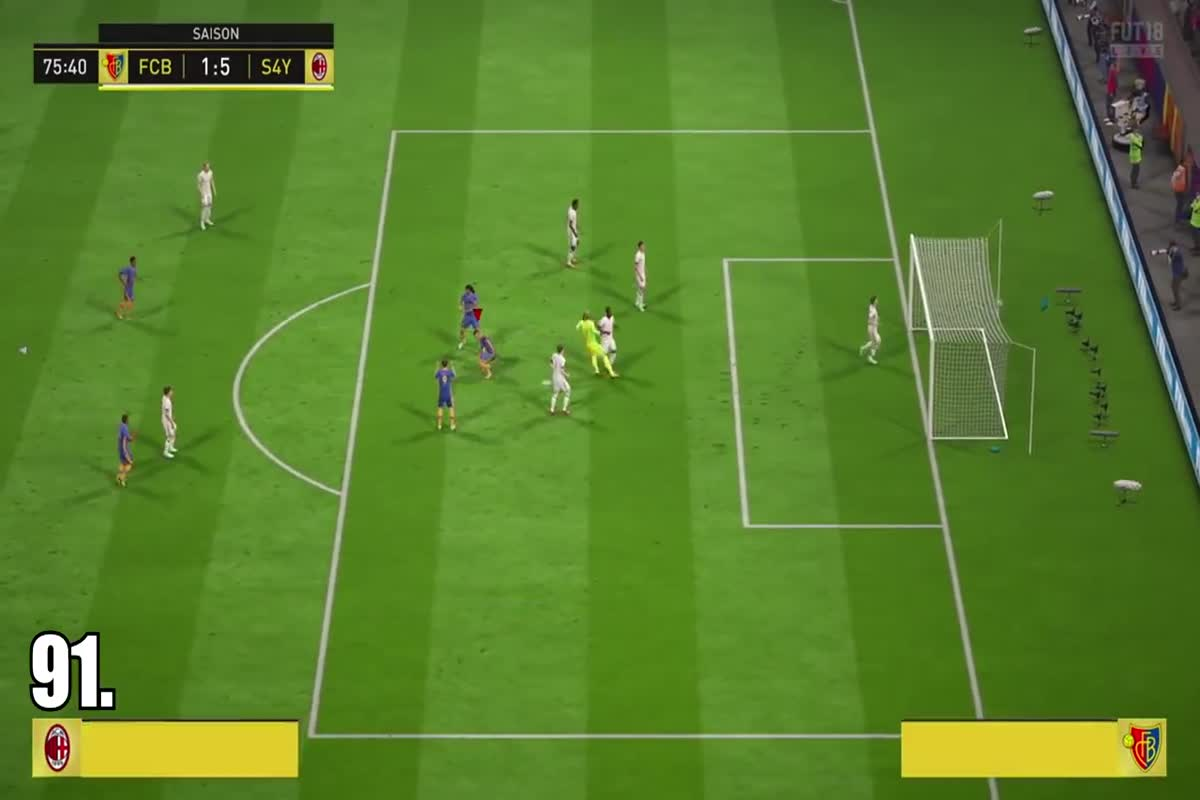ball: (983, 292, 1015, 315)
